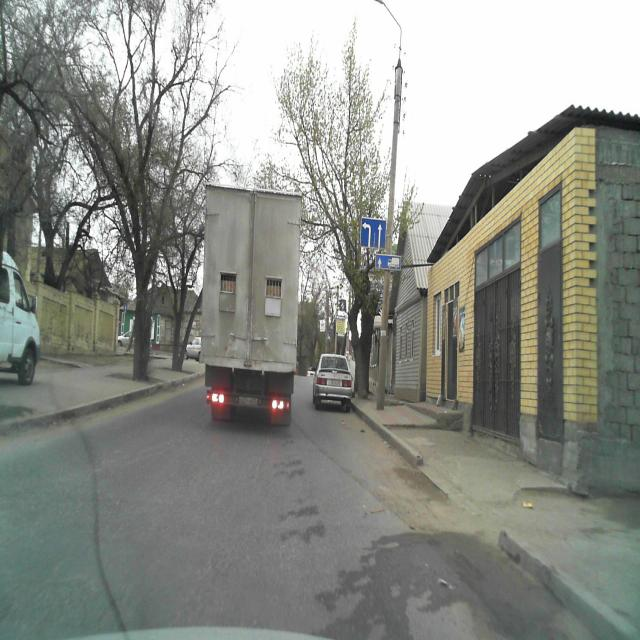road sign: (361, 216, 386, 249), (375, 253, 401, 271)
